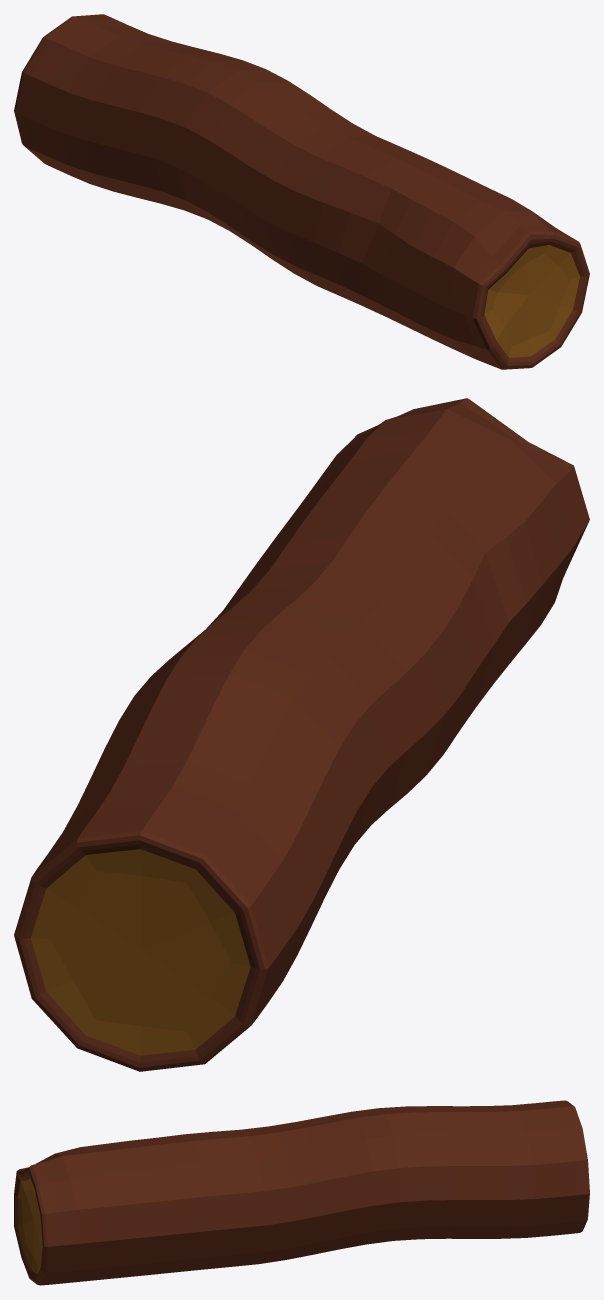
The model's file is log.fbx.
3 renders of one model, top to bottom at view 1: azimuth 30°, elevation 25°; view 2: azimuth 150°, elevation 25°; view 3: azimuth 270°, elevation 25°, orthographic. The views are drawn at different scales.
Visible parts, largest first — view 1: log 1; view 2: log 1; view 3: log 1.
Boxes of the visible parts, box(x1,y1,x2,y2) form: log 1: box(14, 14, 589, 369); log 1: box(14, 398, 589, 1071); log 1: box(14, 1100, 589, 1285).
Size of the model in its own units: 320 by 185 by 723.
